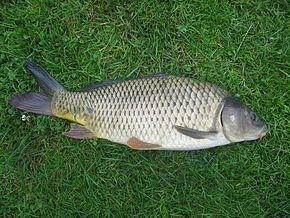Grass Carp: (9, 59, 270, 154)
